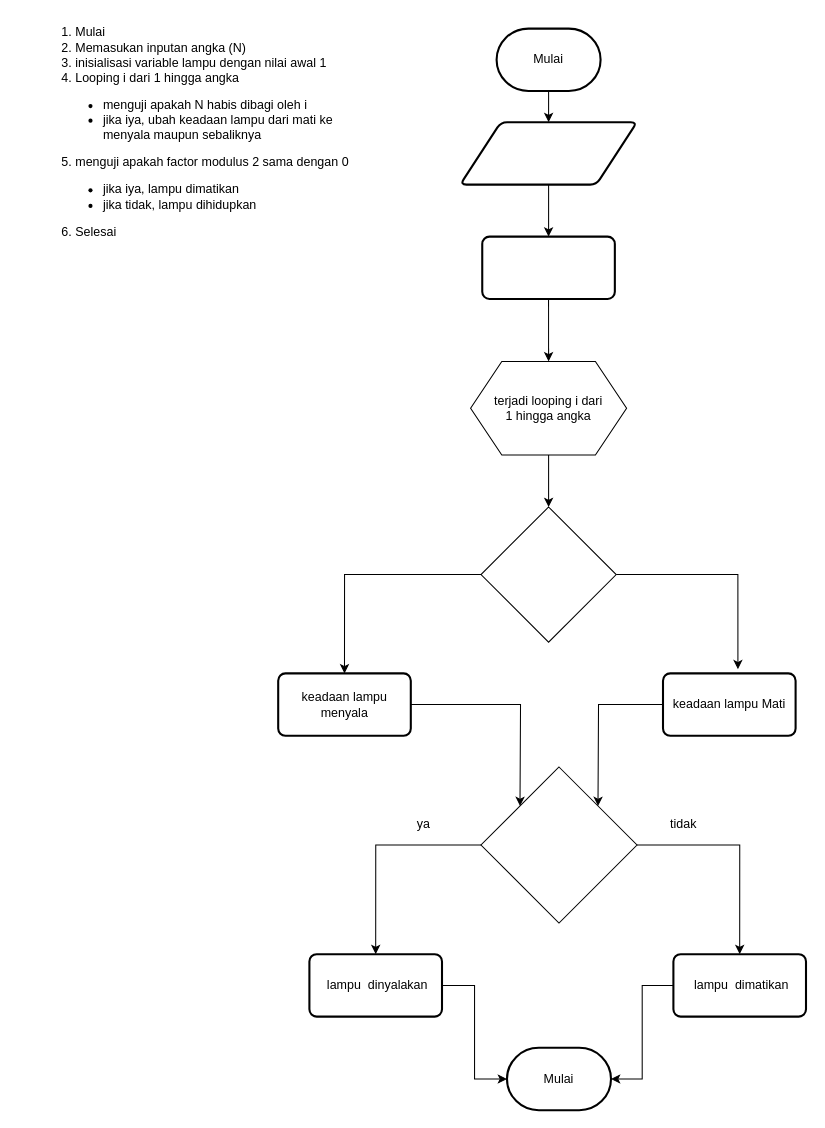
This 825x1128 diagram has some shape labels left out. Here are the shapes that lost their labels. From the top down, the centre of each, then its label:
At point (548, 153): "Input Angka (N)".
At point (548, 267): "inisialisasi var lampu dengan nilai awal 1".
At point (548, 574): "N habis dibagi oleh i".
At point (558, 844): "Pengechekan factor modulus".
